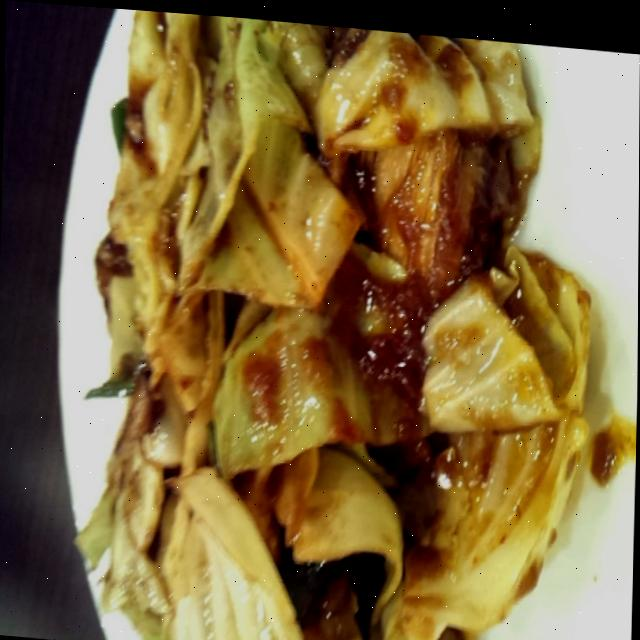猪肉菜式: (53, 3, 622, 640)
